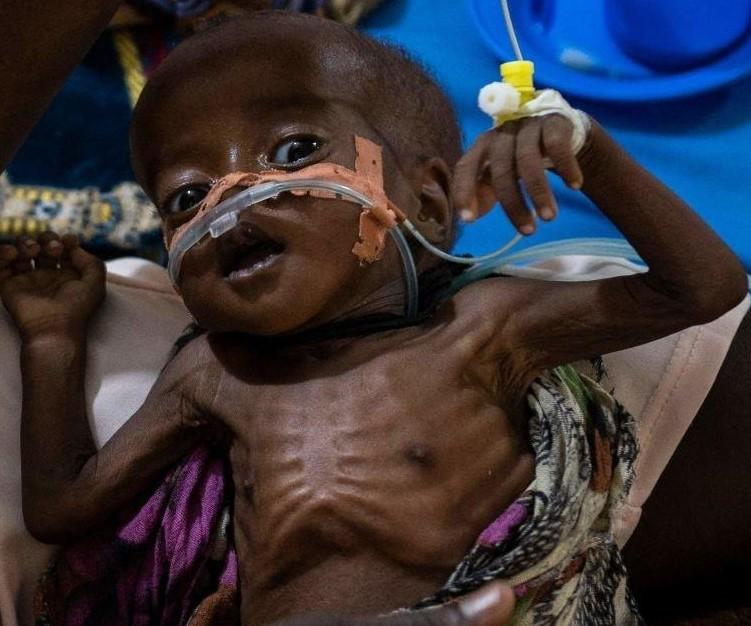Stunting: (88, 57, 530, 378)
